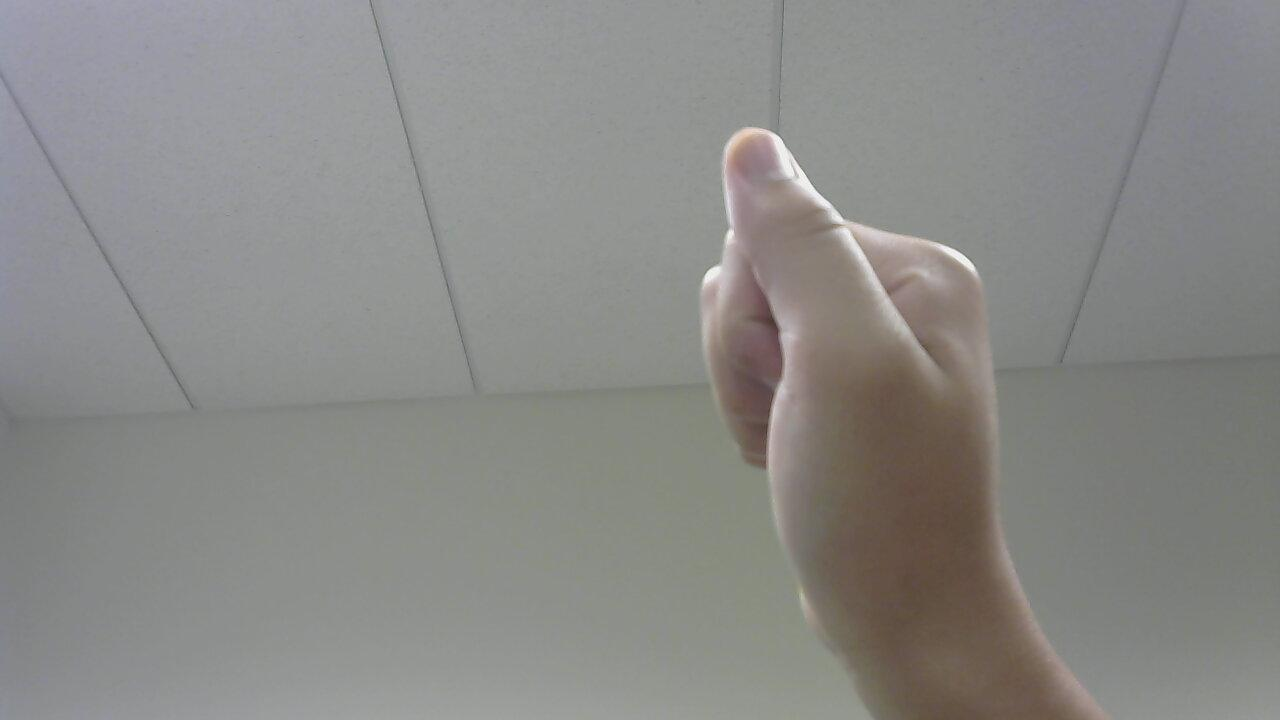fist: (692, 116, 1006, 640)
